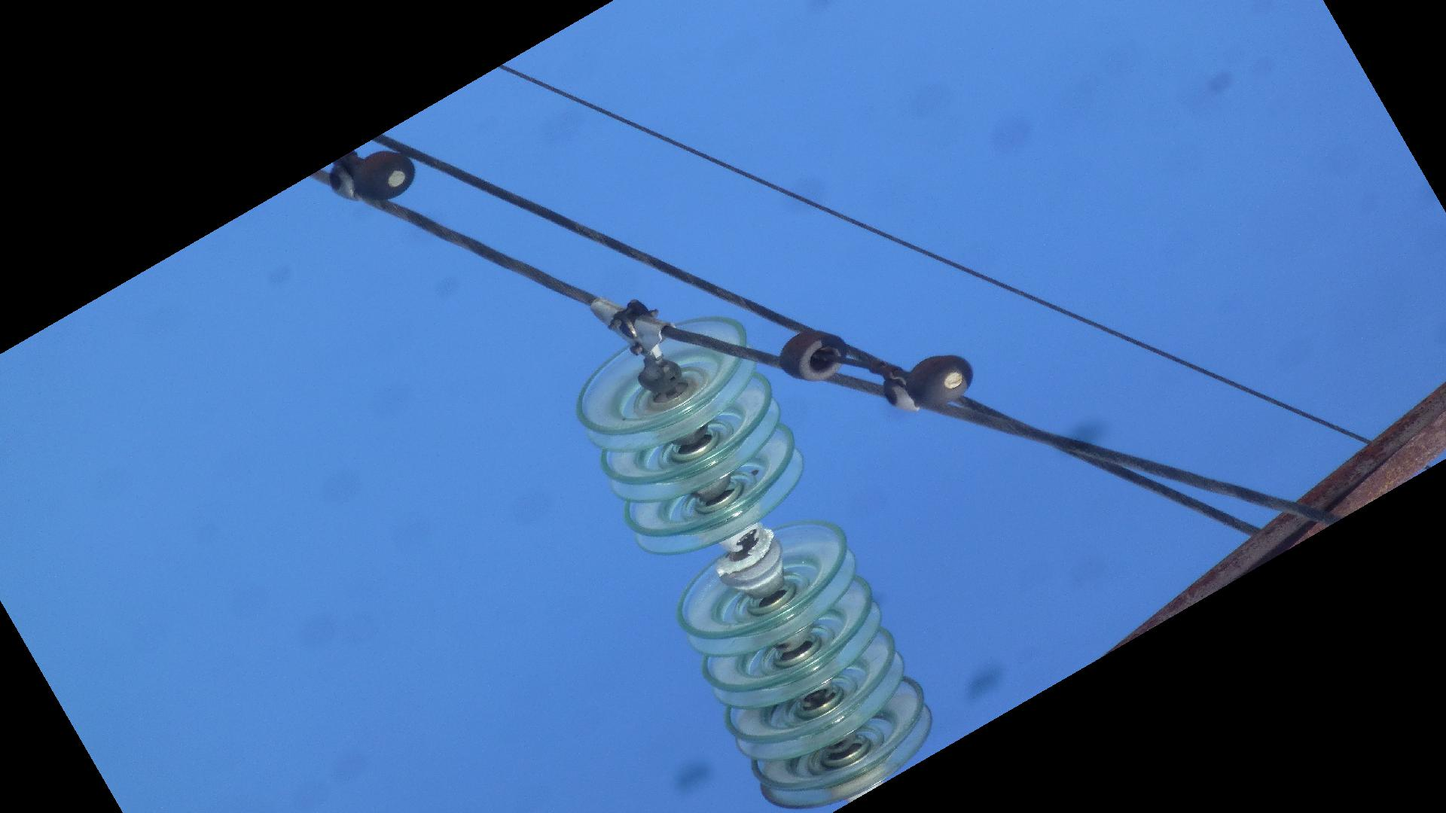insulator: (570, 311, 941, 813)
insulator_stringdrop: (621, 423, 864, 664)
